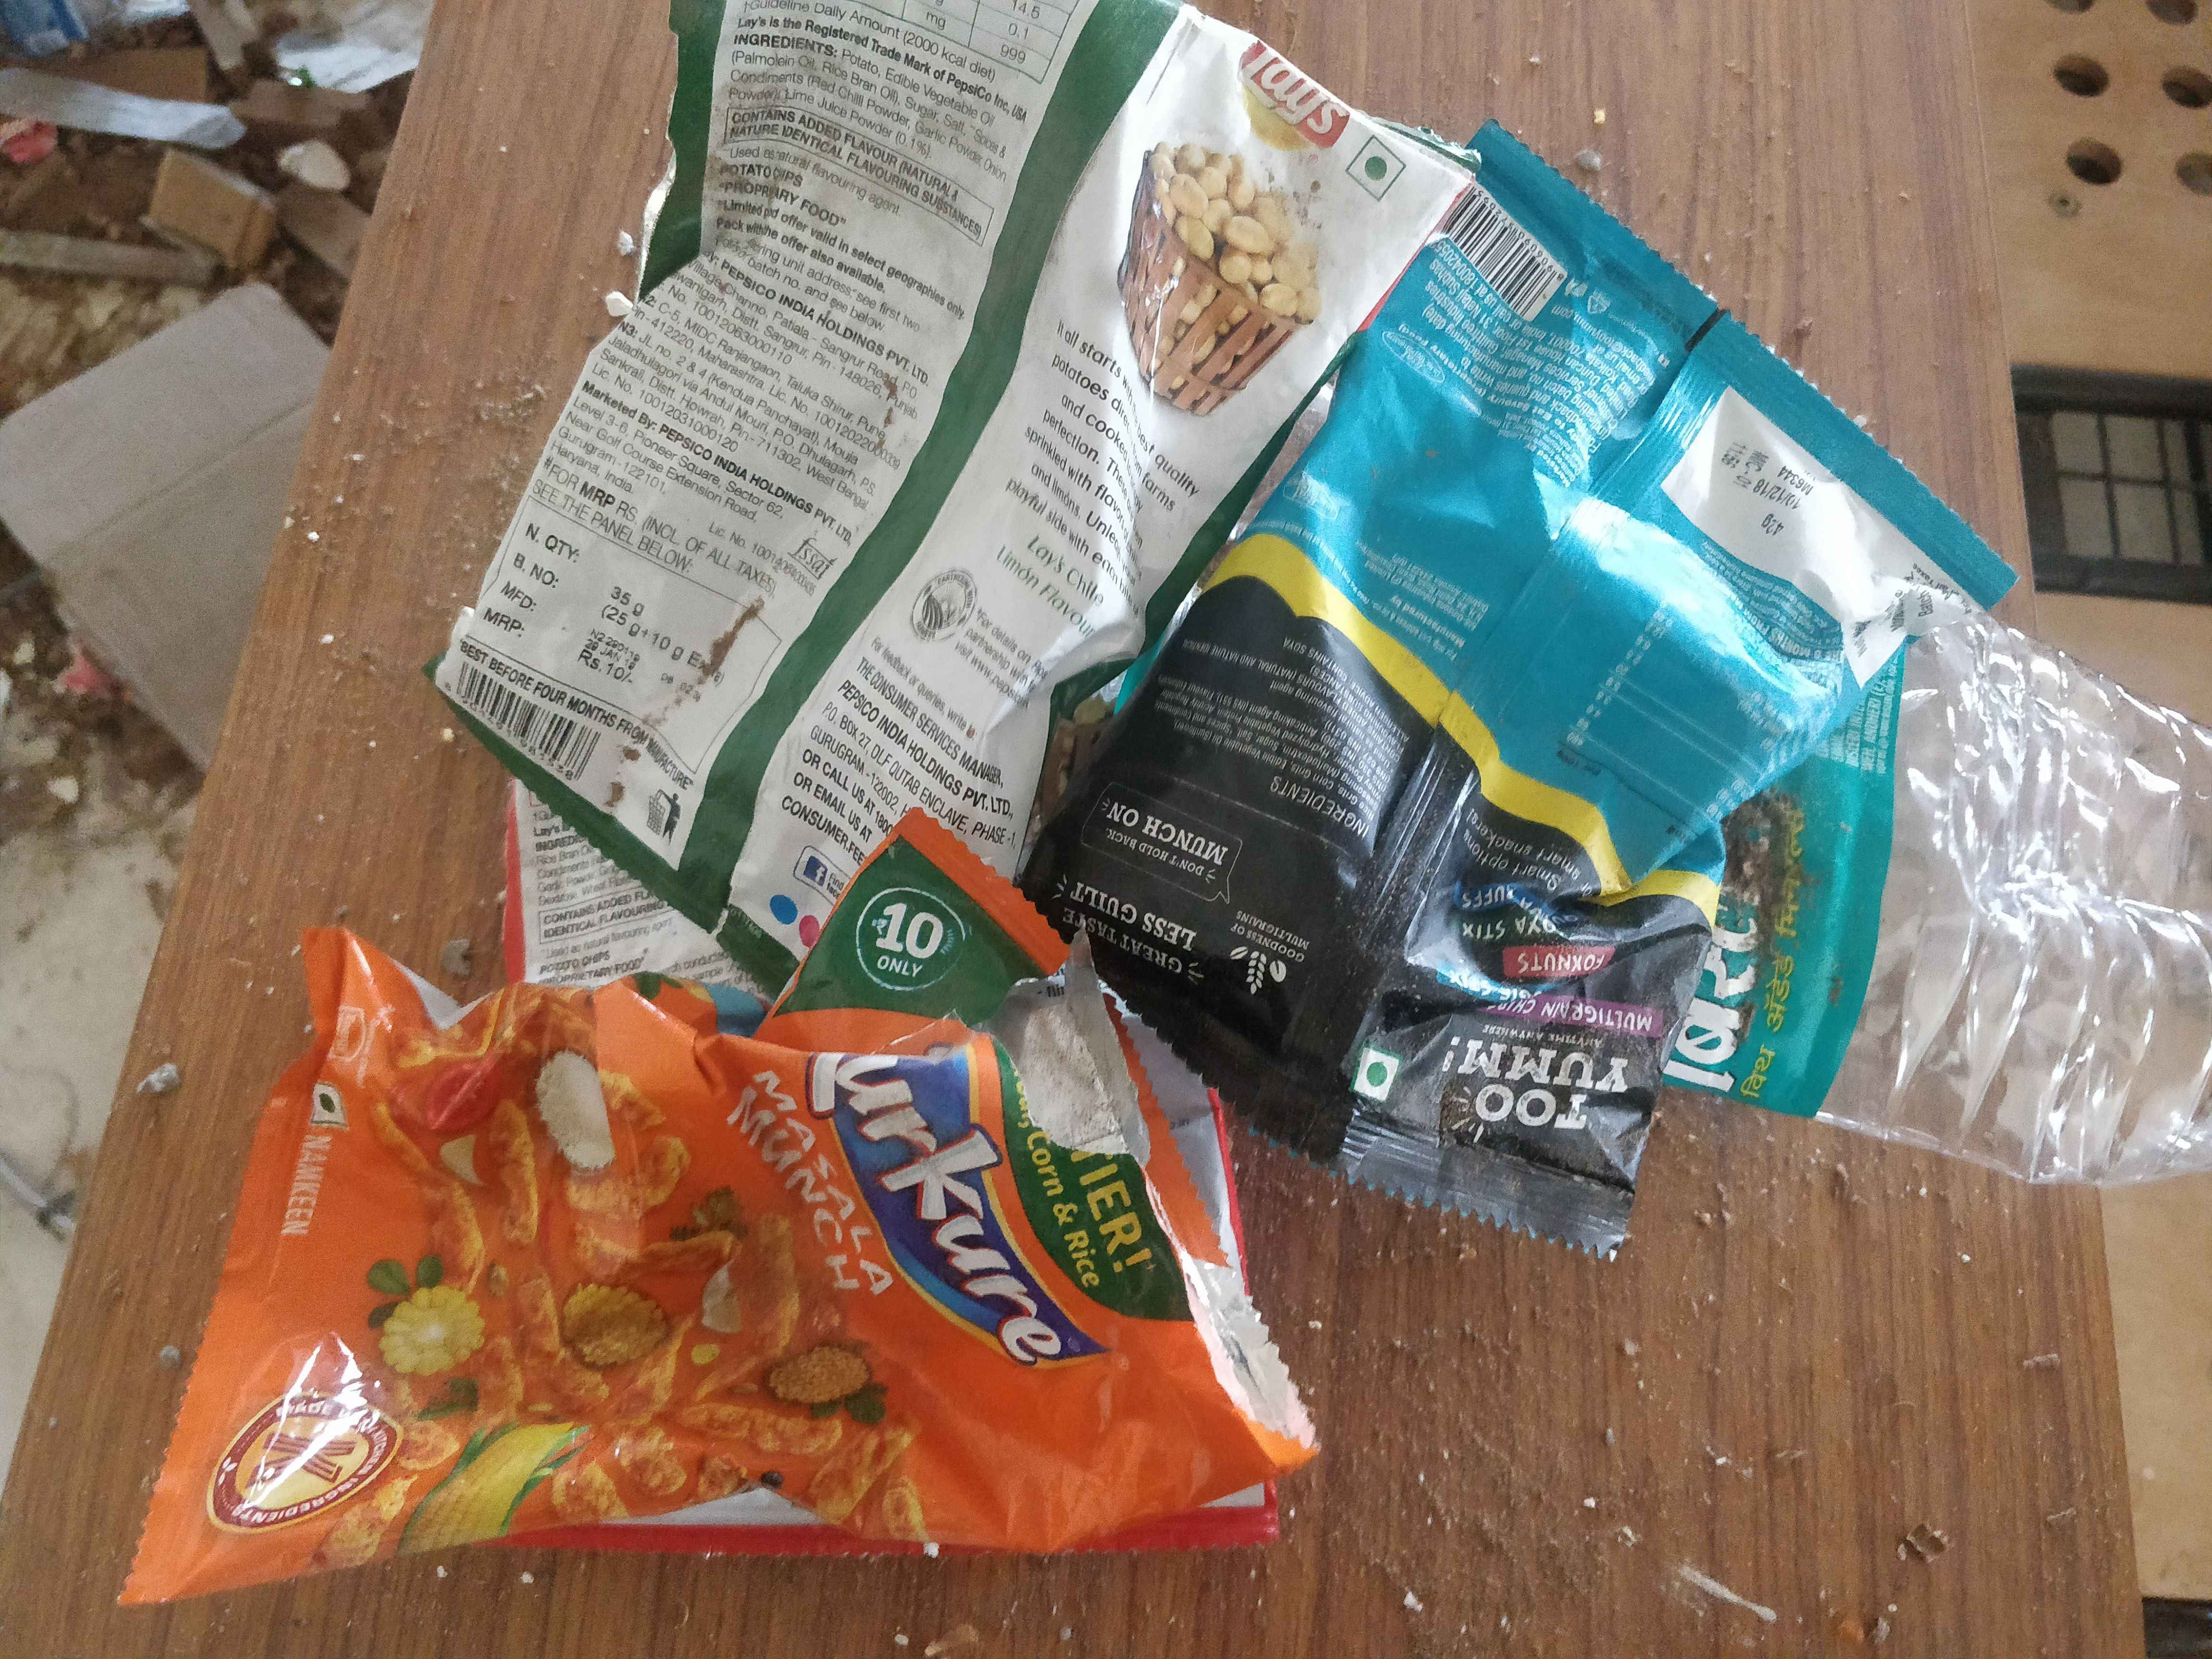Bisleri: (1679, 798, 1829, 1115)
Lays: (1217, 35, 1374, 176)
kurkure: (792, 1012, 1125, 1401)
tooyumm: (1411, 1012, 1649, 1185)
